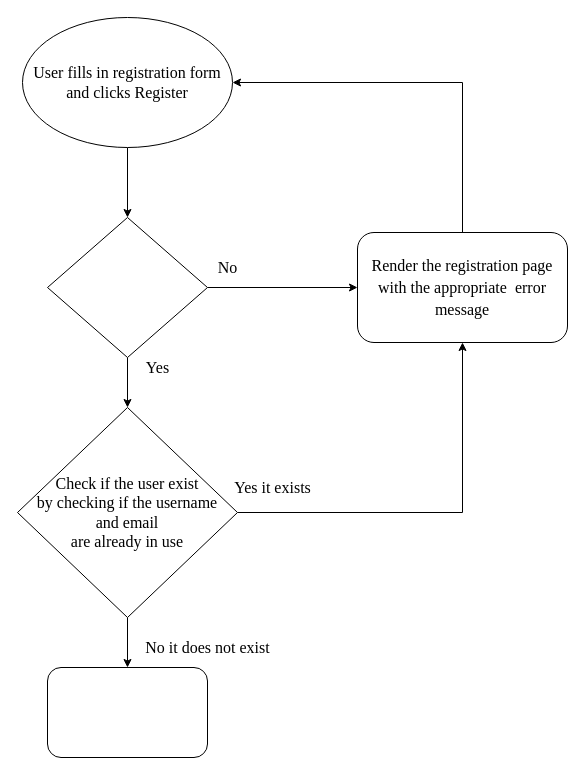
This 585x775 diagram has some shape labels left out. The centre of each missing label's shape, as x and y in pixels:
Encrypt the password and save the user in the dababase.: (127,712)
Is every field filled?: (127,287)
